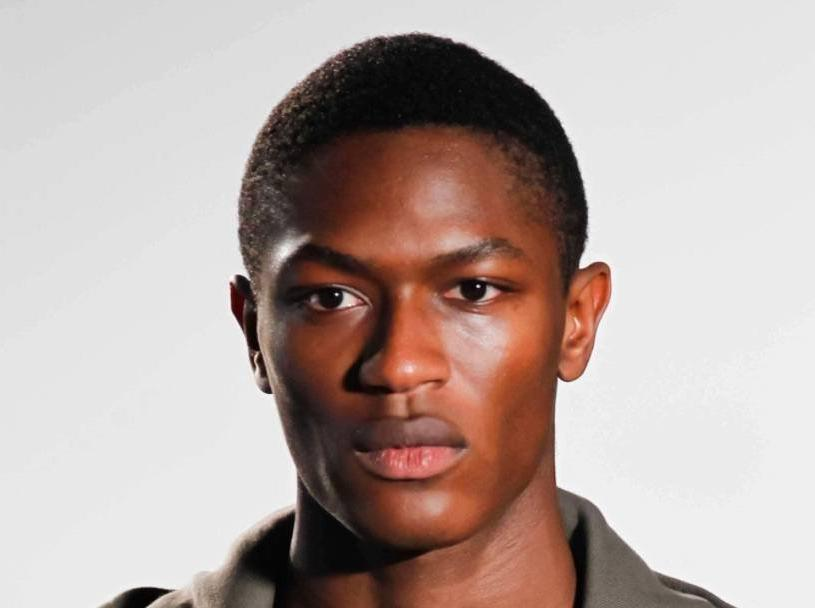Sober: (250, 155, 559, 524)
